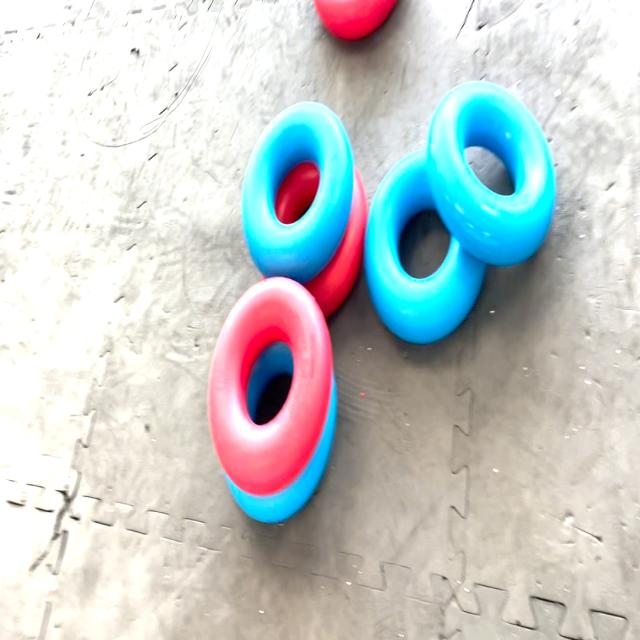Blue-Ring: (428, 82, 556, 267), (365, 151, 486, 344), (241, 102, 354, 283), (226, 382, 336, 522)
Red-Ring: (208, 278, 332, 496), (305, 167, 368, 318), (311, 0, 403, 45)
